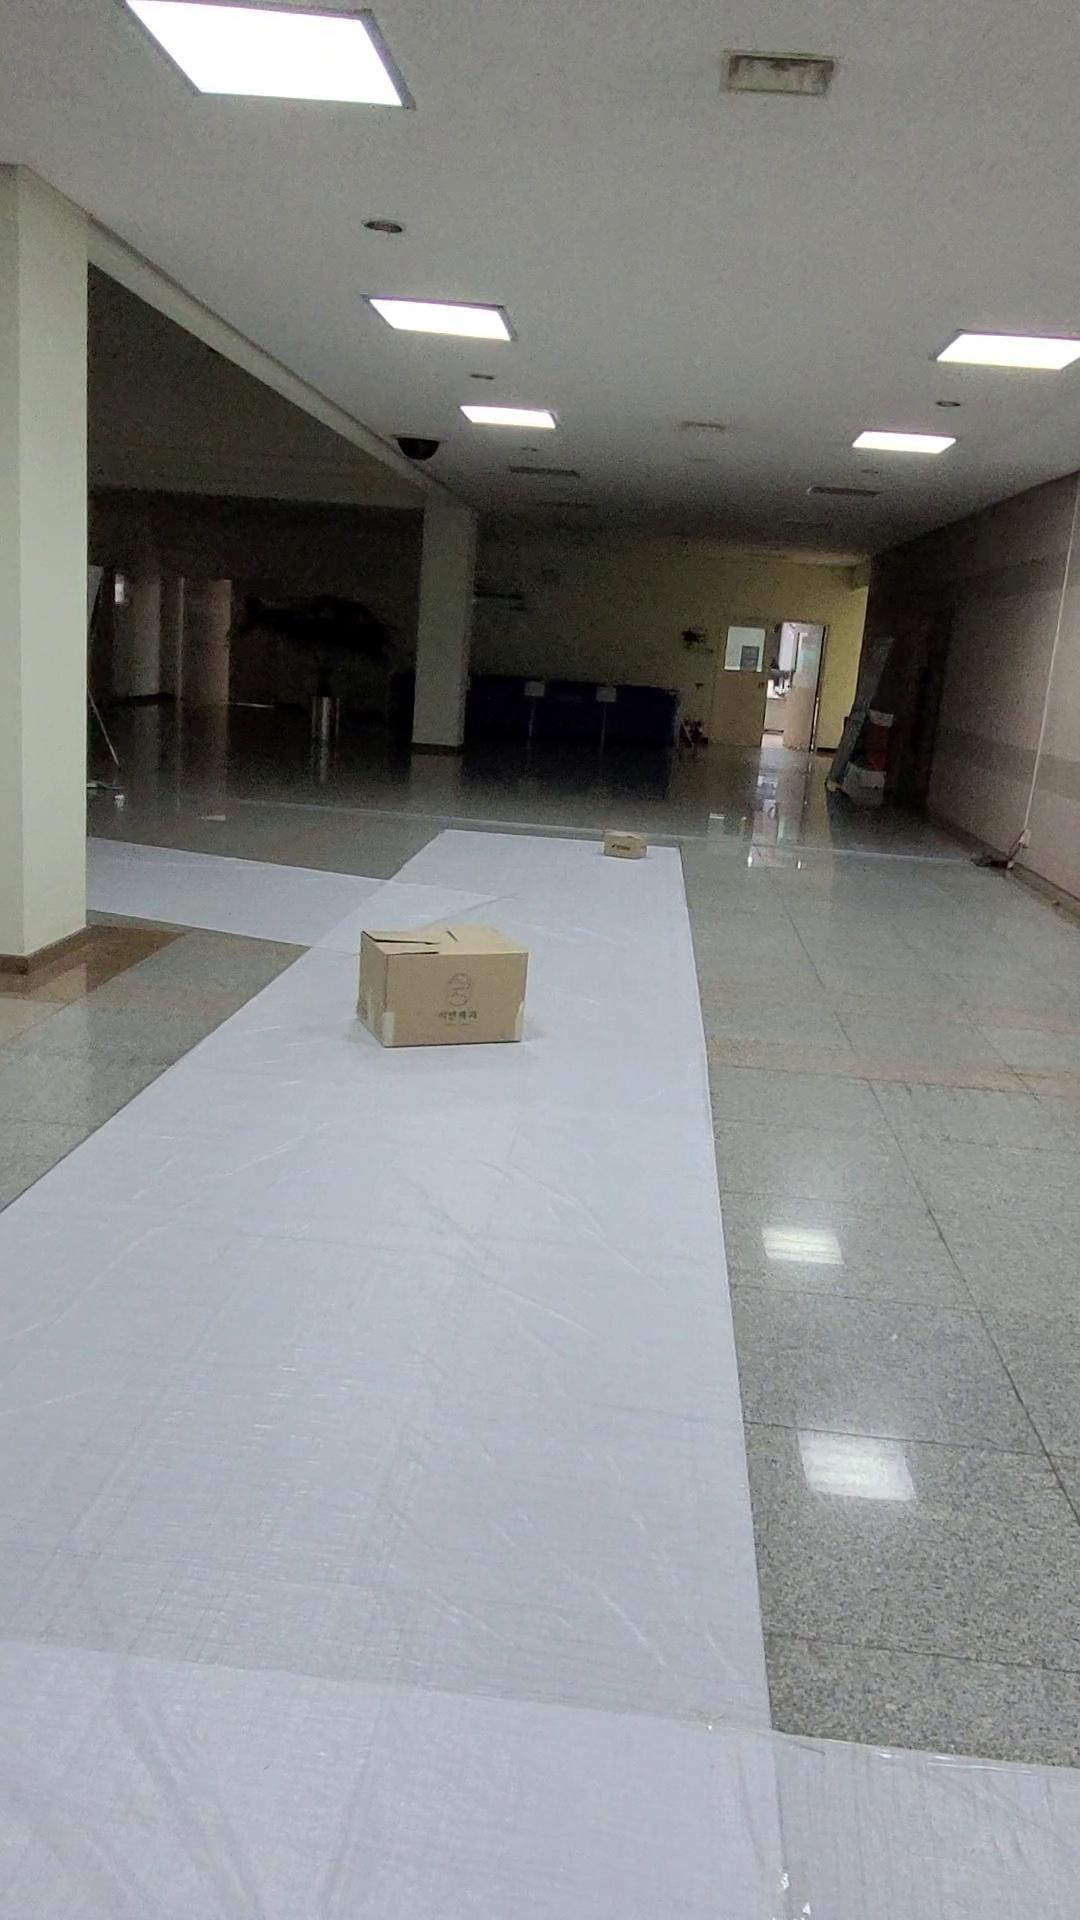Box: (345, 910, 538, 1058), (596, 820, 653, 870)
